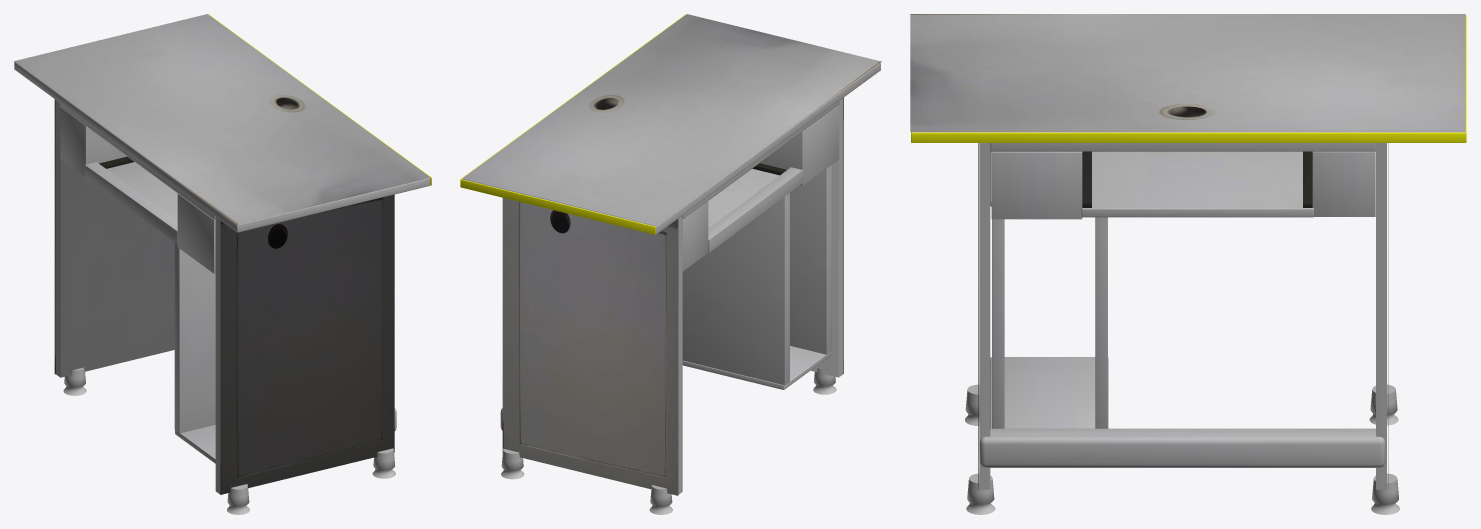
Rendered from cdesk01su.glb.
3 renders of one model, left to right at view 1: azimuth 30°, elevation 25°; view 2: azimuth 150°, elevation 25°; view 3: azimuth 270°, elevation 25°, orthographic. The views are drawn at different scales.
Visible parts, largest first — view 1: ChamferBox083, ChamferBox085, ChamferBox067, ChamferBox070, ChamferBox065, ChamferBox081, ChamferBox074, ChamferBox076, ChamferBox066, ChamferBox077, ChamferBox069, ChamferBox073 (+4 smaller); view 2: ChamferBox082, ChamferBox085, ChamferBox070, ChamferBox071, ChamferBox066, ChamferBox076, ChamferBox081, ChamferBox065, ChamferBox087, ChamferBox077, ChamferBox069, ChamferBox074 (+4 smaller); view 3: ChamferBox085, ChamferBox068, ChamferBox077, ChamferBox069, ChamferBox076, ChamferBox089, ChamferBox074, ChamferBox066, ChamferBox067, ChamferBox073, ChamferBox070, ChamferBox071 (+3 smaller).
Part boxes in pixels (x1,y1,x2,y2): ChamferBox083: [220, 194, 394, 494]; ChamferBox085: [14, 14, 430, 224]; ChamferBox067: [56, 100, 174, 377]; ChamferBox070: [174, 242, 215, 433]; ChamferBox065: [14, 62, 430, 232]; ChamferBox081: [84, 162, 177, 243]; ChamferBox074: [60, 107, 126, 176]; ChamferBox076: [177, 193, 215, 273]; ChamferBox066: [215, 217, 220, 494]; ChamferBox077: [107, 162, 177, 219]; ChamferBox069: [175, 425, 215, 463]; ChamferBox073: [59, 103, 215, 219]; ChamferBox082: [502, 198, 678, 495]; ChamferBox085: [462, 14, 881, 226]; ChamferBox070: [682, 193, 789, 385]; ChamferBox071: [790, 165, 831, 354]; ChamferBox066: [811, 98, 843, 377]; ChamferBox076: [760, 105, 839, 185]; ChamferBox081: [708, 167, 803, 252]; ChamferBox065: [462, 62, 880, 234]; ChamferBox087: [461, 179, 655, 234]; ChamferBox077: [708, 168, 779, 228]; ChamferBox069: [682, 346, 831, 389]; ChamferBox074: [682, 201, 708, 271]; ChamferBox085: [910, 14, 1465, 131]; ChamferBox068: [979, 428, 1385, 467]; ChamferBox077: [1081, 151, 1313, 217]; ChamferBox069: [990, 357, 1108, 428]; ChamferBox076: [991, 151, 1082, 219]; ChamferBox089: [911, 132, 1466, 142]; ChamferBox074: [1312, 151, 1375, 216]; ChamferBox066: [979, 143, 990, 489]; ChamferBox067: [1376, 143, 1386, 489]; ChamferBox073: [990, 143, 1375, 151]; ChamferBox070: [1095, 217, 1107, 428]; ChamferBox071: [992, 219, 1004, 428].
Bounding box in the file's own units: 0.5038 × 0.772 × 1.
20 materials, 19 textured.
